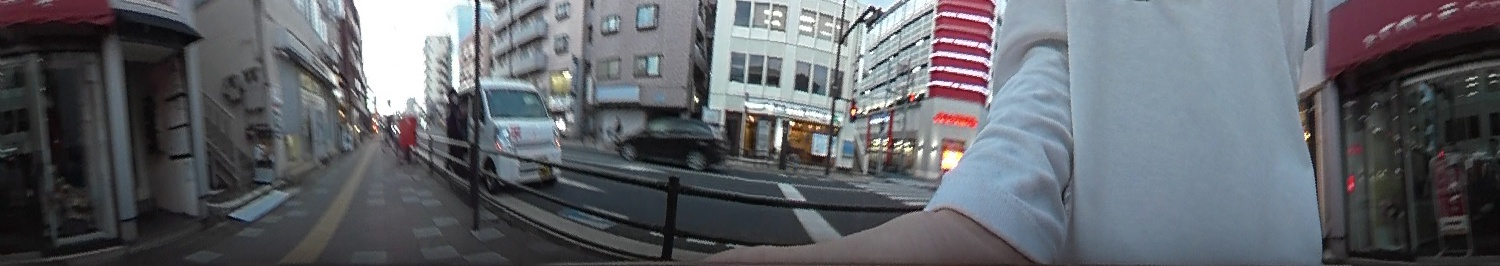difficult_person: (606, 112, 625, 142)
